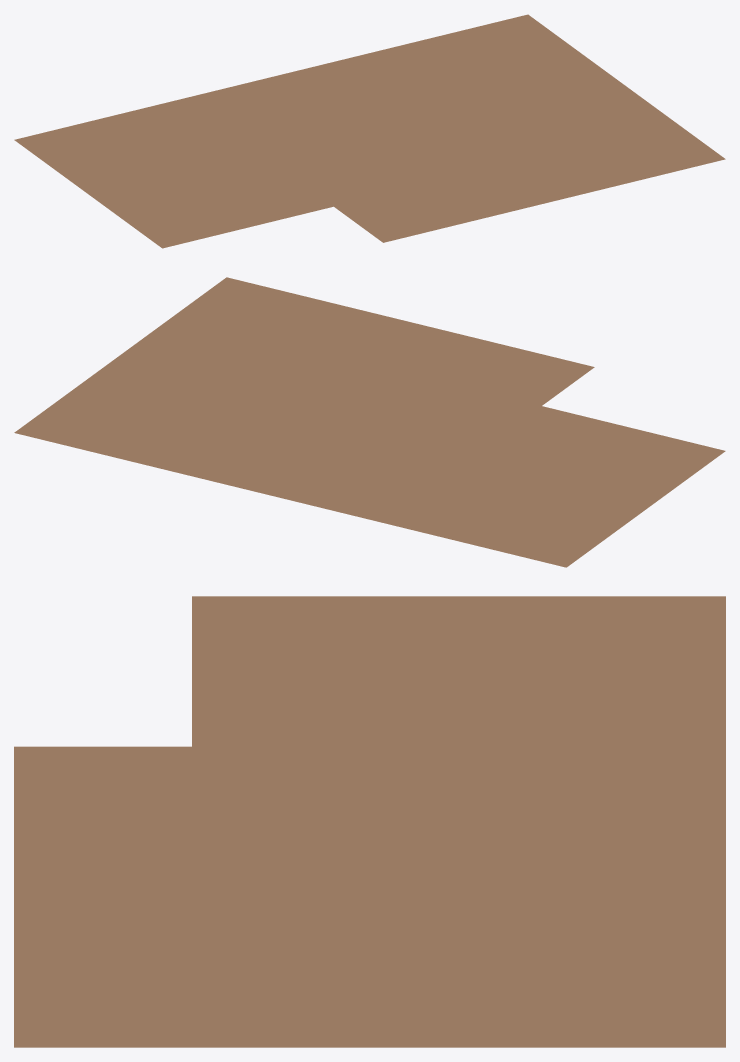
Rendered from N04_Piso_Cuarto_01.fbx.
The picture shows the model from 3 angles, top to bottom: view 1: azimuth 30°, elevation 25°; view 2: azimuth 150°, elevation 25°; view 3: azimuth 270°, elevation 25°; orthographic projection. The views are drawn at different scales.
Parts seen in each view (by area): view 1: N04_Piso_Cuarto_01; view 2: N04_Piso_Cuarto_01; view 3: N04_Piso_Cuarto_01.
Part boxes in pixels (left/top/right/bottom): N04_Piso_Cuarto_01: left=14, top=14, right=725, bottom=248; N04_Piso_Cuarto_01: left=14, top=277, right=725, bottom=567; N04_Piso_Cuarto_01: left=14, top=596, right=725, bottom=1047.
Size of the model in its own units: 600 by 9.78e-05 by 400.
Materials: 1 (1 with a texture image).
